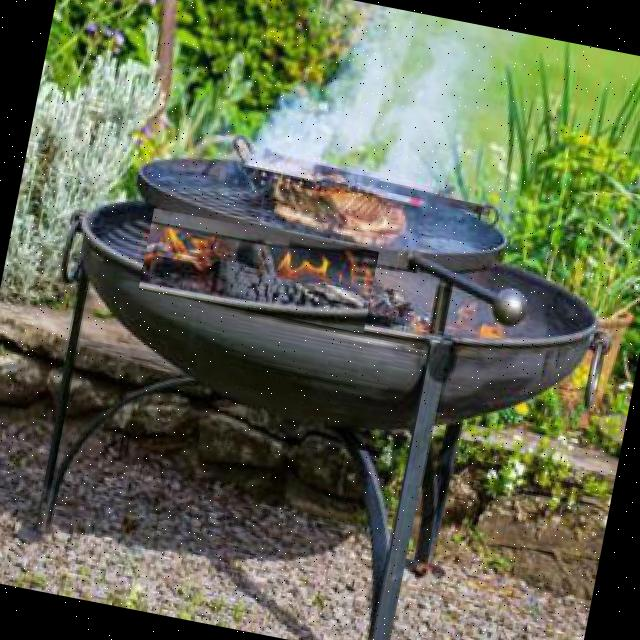fire: (138, 208, 379, 334)
